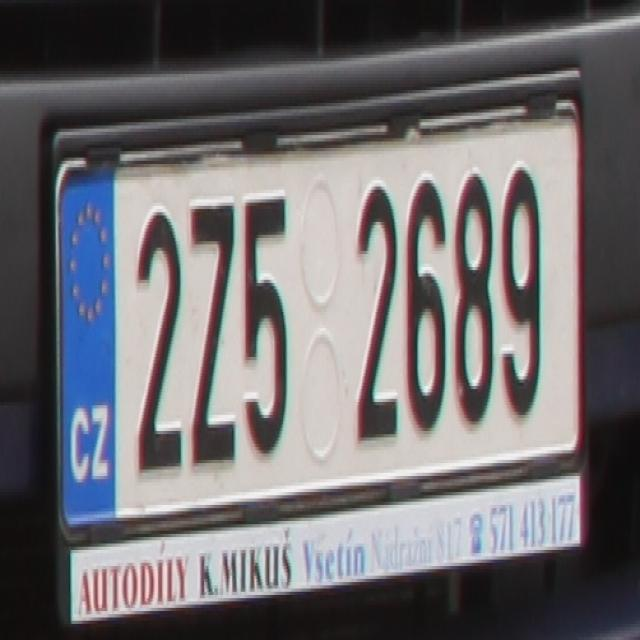2: (132, 206, 182, 470), (352, 176, 396, 438)
5: (242, 190, 290, 448)
6: (408, 176, 449, 434)
8: (454, 168, 495, 422)
9: (500, 164, 542, 418)
Z: (188, 202, 238, 470)
